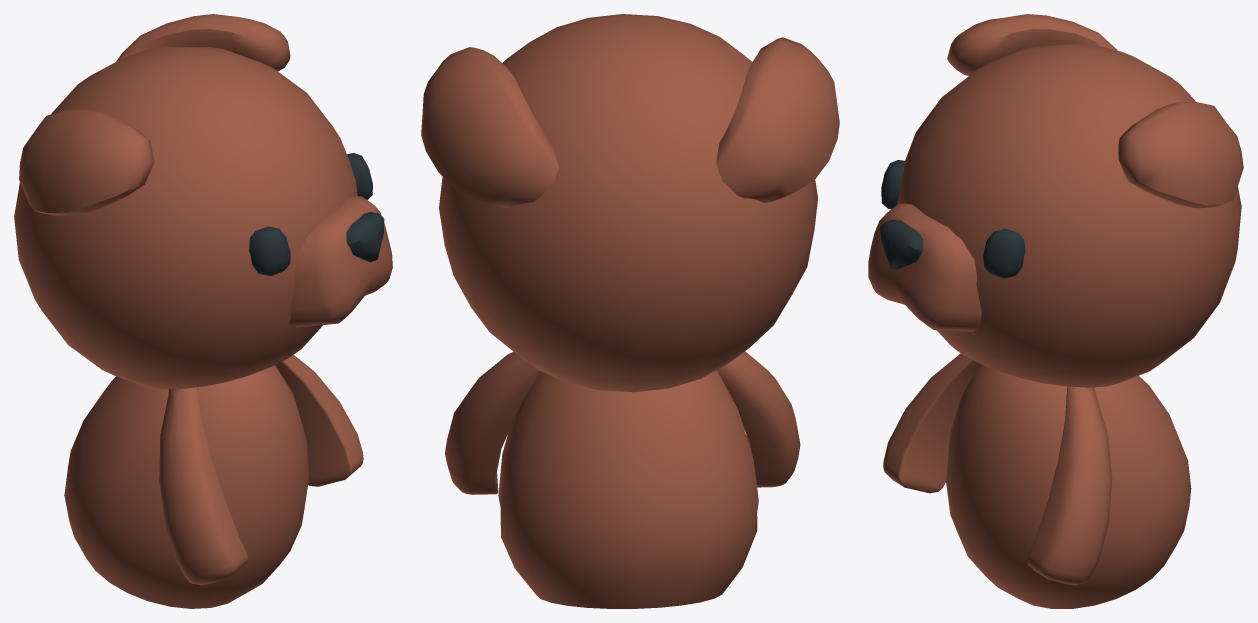
File: character_dog.fbx
3 views of the same model, side by side, from view 1: azimuth 30°, elevation 25°; view 2: azimuth 150°, elevation 25°; view 3: azimuth 270°, elevation 25° (orthographic). The views are drawn at different scales.
Parts seen in each view (by area): view 1: character_bearHead, character_bear, character_bearArmRight, character_bearArmLeft; view 2: character_bearHead, character_bear, character_bearArmLeft, character_bearArmRight; view 3: character_bearHead, character_bear, character_bearArmLeft, character_bearArmRight.
Part boxes in pixels (<box>): character_bearHead: <box>14,14,392,389</box>; character_bear: <box>64,365,309,608</box>; character_bearArmRight: <box>159,387,247,585</box>; character_bearArmLeft: <box>275,355,363,486</box>; character_bearHead: <box>421,14,839,392</box>; character_bear: <box>498,370,758,608</box>; character_bearArmLeft: <box>445,351,540,494</box>; character_bearArmRight: <box>716,351,800,487</box>; character_bearHead: <box>868,14,1243,387</box>; character_bear: <box>946,364,1191,608</box>; character_bearArmLeft: <box>1027,386,1112,585</box>; character_bearArmRight: <box>883,353,981,493</box>.
Size of the model in its own units: 110 by 166 by 108.
